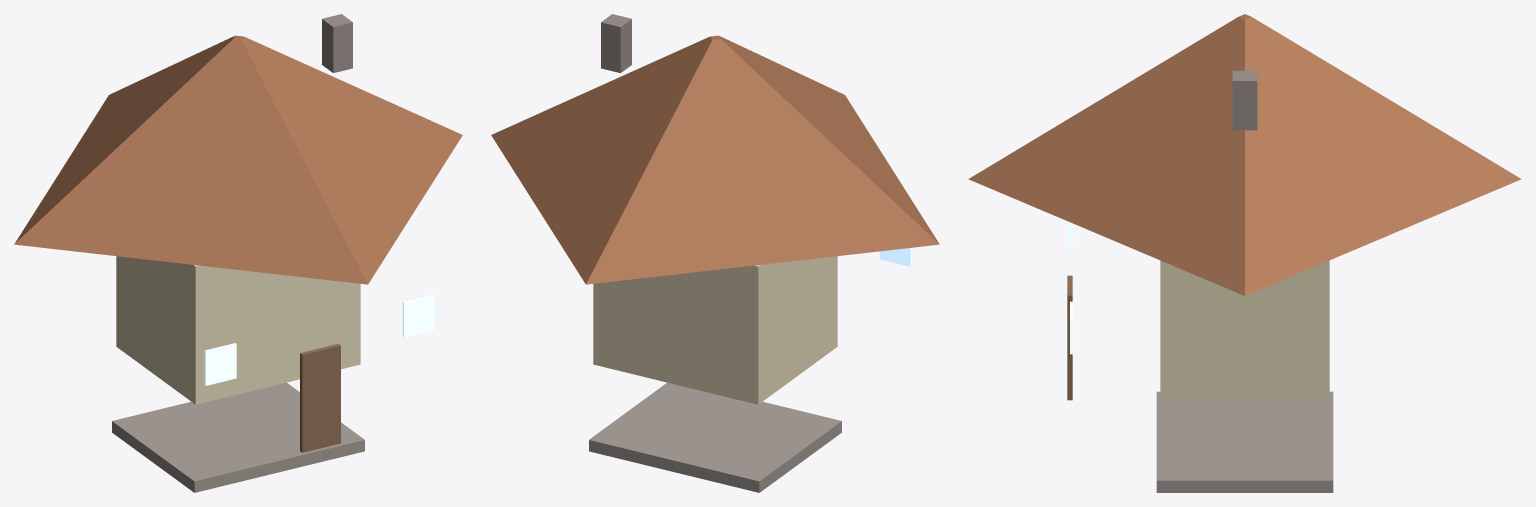
Rendered from VillageCottageA.fbx.
3 renders of one model, left to right at view 1: azimuth 30°, elevation 25°; view 2: azimuth 150°, elevation 25°; view 3: azimuth 270°, elevation 25°, orthographic. The views are drawn at different scales.
Visible parts, largest first — view 1: VillageCottageA; view 2: VillageCottageA; view 3: VillageCottageA.
Part boxes in pixels (<box>): VillageCottageA: <box>14,14,462,492</box>; VillageCottageA: <box>491,14,939,492</box>; VillageCottageA: <box>968,14,1521,492</box>.
Bounding box in the file's own units: 4.08 × 3.51 × 4.08.
